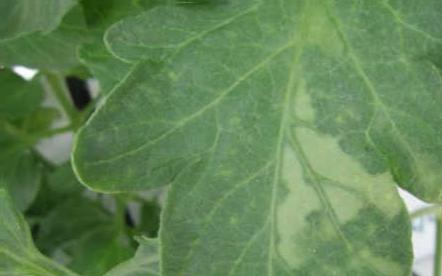Tomato leaf bacterial spot: (72, 0, 442, 276)
